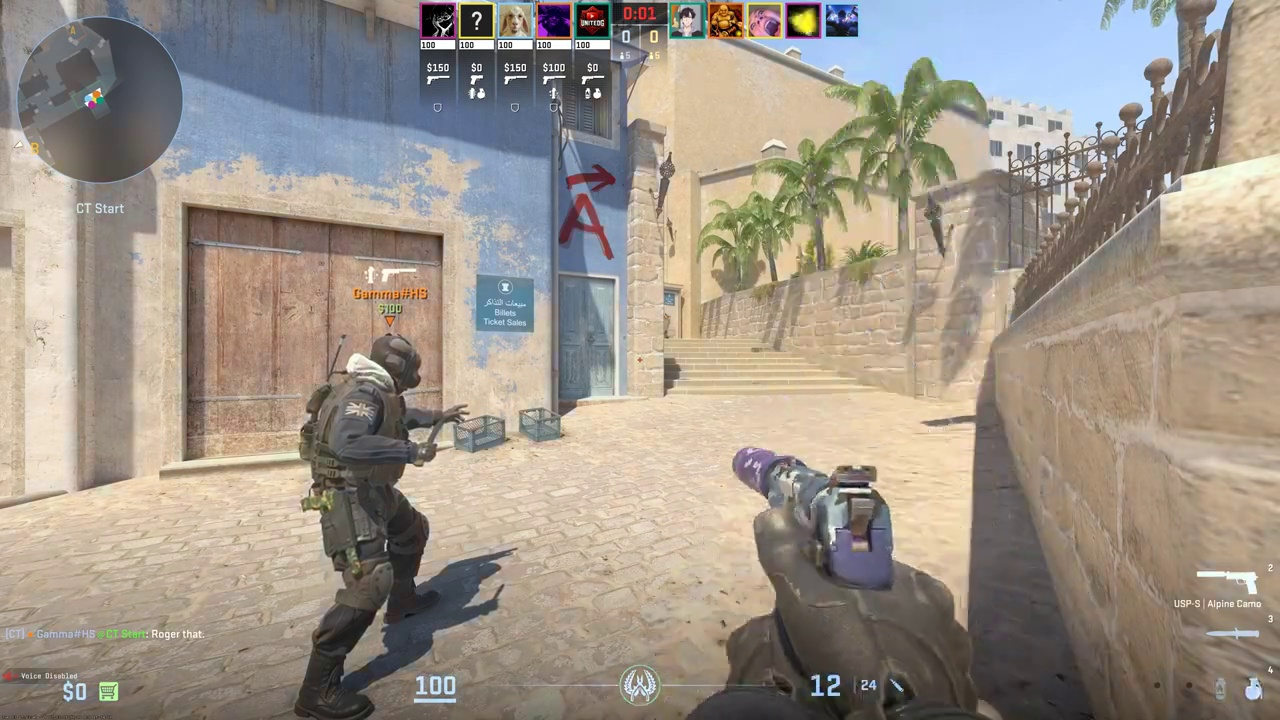CT: (309, 333, 442, 715)
